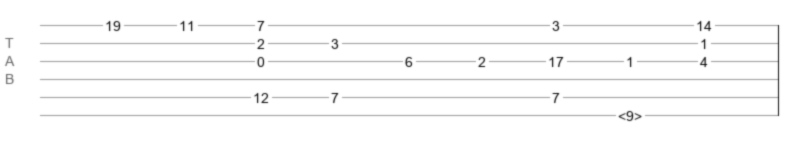0: (257, 54, 265, 64)
1: (626, 54, 634, 64), (700, 36, 708, 46)
11: (179, 18, 195, 28)
12: (253, 90, 269, 100)
14: (696, 18, 712, 28)
17: (548, 54, 564, 64)
19: (105, 18, 121, 28)
2: (257, 36, 265, 46), (478, 54, 486, 64)
3: (331, 36, 339, 46), (552, 18, 560, 28)
4: (700, 54, 708, 64)
6: (405, 54, 413, 64)
7: (257, 18, 265, 28), (331, 90, 339, 100), (552, 90, 560, 100)
harmonic: (618, 108, 642, 118)
